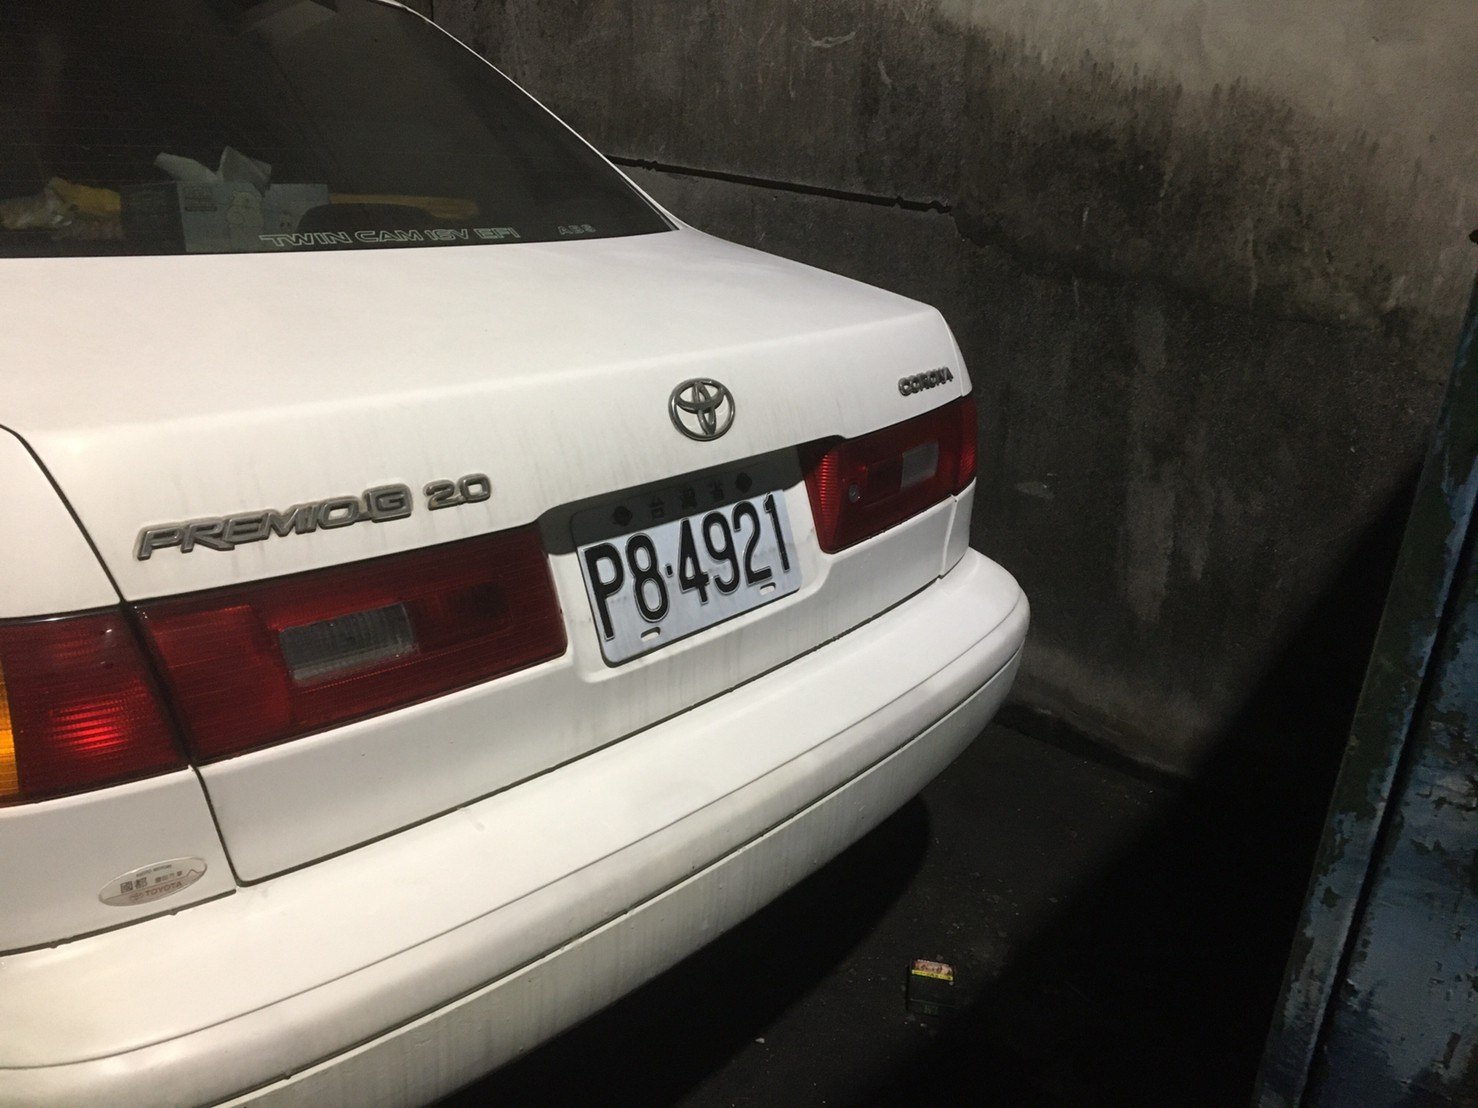LP: (578, 449, 797, 663)
